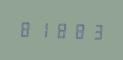eight: (18, 18, 34, 39), (52, 19, 68, 40), (69, 20, 85, 40)
one: (35, 19, 51, 39)
three: (86, 20, 102, 41)
